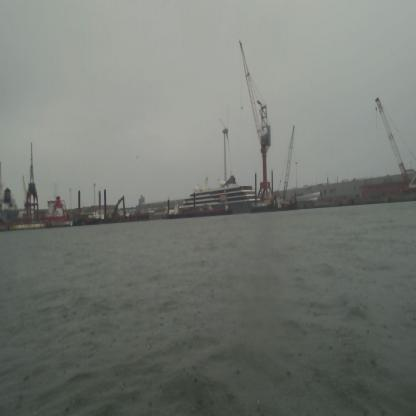Container Ship: (164, 200, 233, 219), (46, 194, 70, 227)
